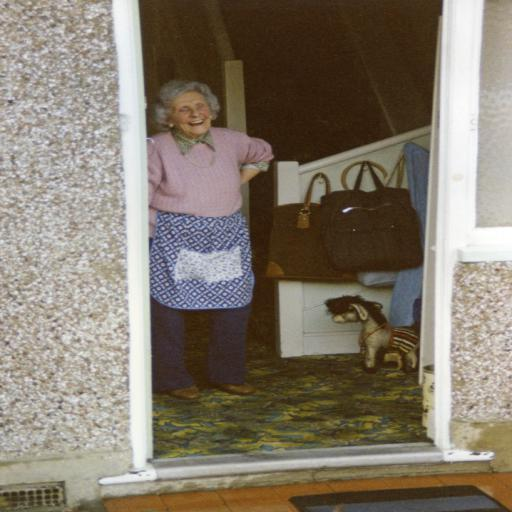horse: (322, 294, 424, 376)
